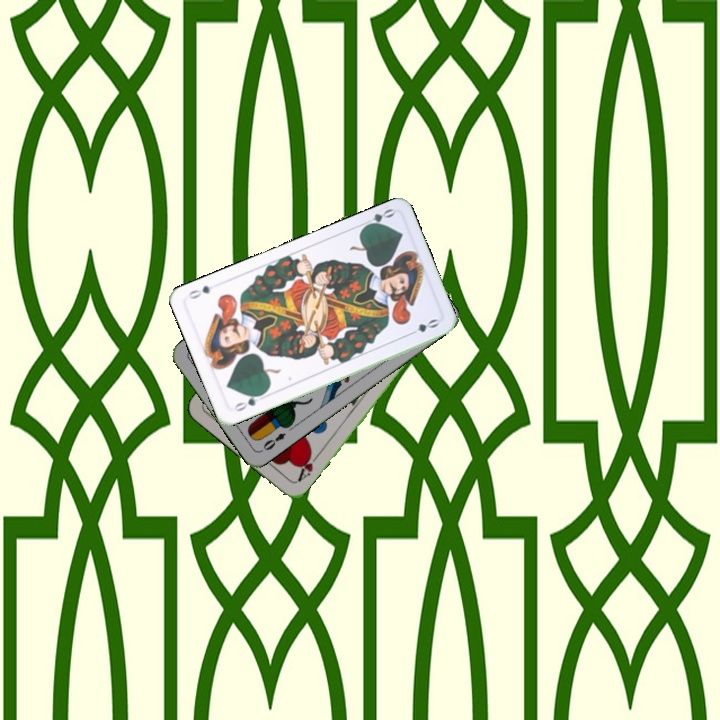EO: (257, 429, 288, 454)
GO: (357, 204, 397, 231), (229, 389, 267, 414)
HA: (293, 448, 322, 485)
